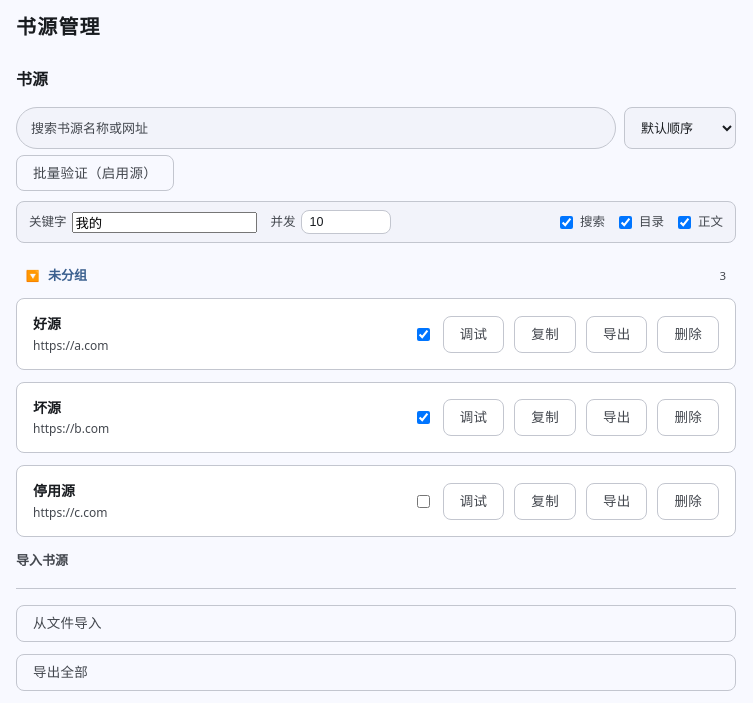
Test: BookSourceManager › batch-verifies enabled sources and shows badges + summary
The width and height of the screenshot is (753, 703).
Expected: the text "好源" is shown, [33,314,61,333]
Click the button "批量验证（启用源）": (95, 173) [16,155,174,192]
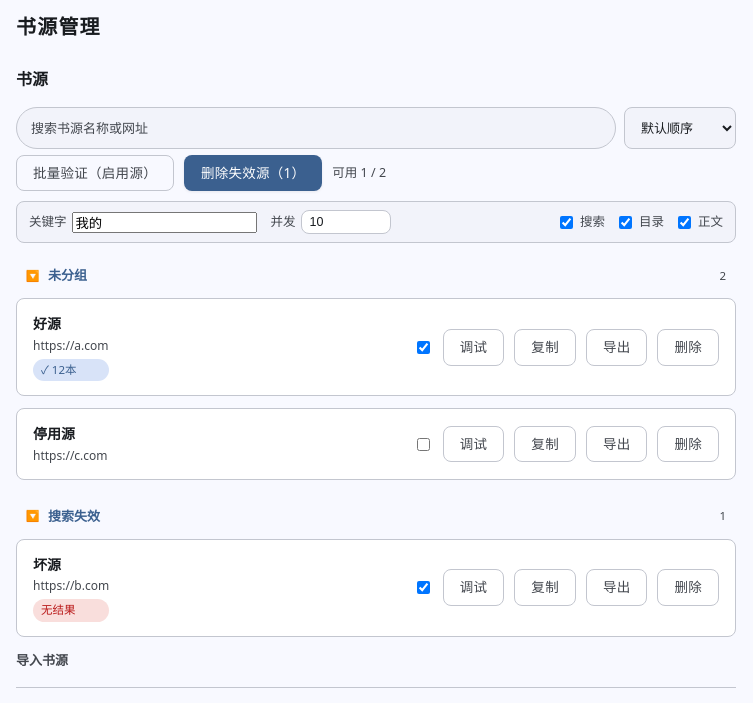
Now the text "可用 1 / 2" is shown, box [332,163,386,183]
Now the text "✓ 12本" is shown, box [33,359,108,381]
Now the text "无结果" is shown, box [33,599,109,622]
